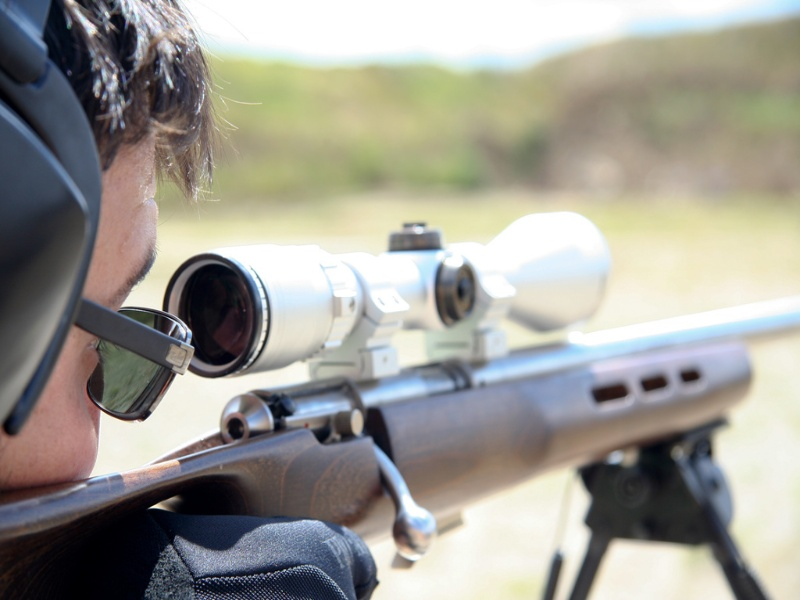person: (2, 1, 275, 600)
